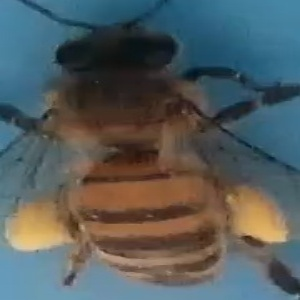bee: (2, 6, 297, 294)
